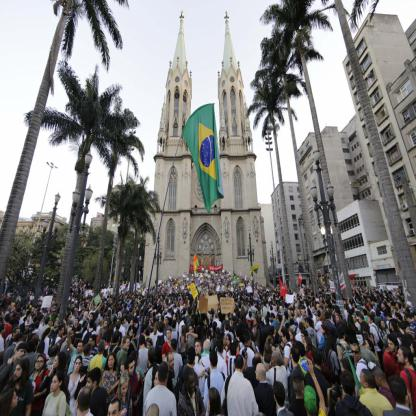face: (14, 366, 23, 381), (51, 376, 59, 392), (352, 347, 360, 362), (36, 356, 44, 371), (86, 377, 94, 391), (109, 405, 119, 416), (189, 375, 195, 393), (18, 349, 27, 361), (360, 372, 366, 389), (397, 350, 404, 364), (75, 358, 82, 372), (154, 372, 160, 388), (130, 361, 136, 377), (388, 339, 395, 352), (53, 356, 60, 369), (122, 383, 129, 396), (169, 355, 175, 369), (256, 366, 261, 381), (109, 356, 115, 367), (77, 343, 83, 354), (272, 355, 278, 366), (196, 342, 201, 354), (365, 340, 370, 351), (135, 354, 140, 365), (16, 329, 21, 339), (289, 332, 294, 341), (167, 331, 172, 340), (411, 344, 415, 354), (127, 340, 131, 349), (89, 338, 93, 347), (406, 327, 411, 334), (342, 362, 345, 373), (359, 317, 363, 325), (302, 335, 306, 343), (148, 343, 152, 351), (62, 327, 66, 335), (55, 321, 59, 329), (282, 333, 285, 343), (336, 316, 340, 323), (382, 321, 386, 328), (90, 314, 94, 321), (227, 337, 230, 346), (131, 329, 134, 338), (368, 316, 371, 324), (406, 318, 410, 324), (254, 318, 257, 326), (190, 326, 193, 334), (71, 331, 74, 339), (4, 326, 7, 334), (354, 315, 357, 322), (390, 322, 393, 329), (173, 314, 176, 321), (27, 317, 31, 322), (303, 310, 306, 316), (391, 306, 394, 312), (321, 328, 324, 334), (407, 303, 410, 309), (387, 317, 390, 323), (395, 315, 398, 321), (211, 316, 214, 322), (159, 317, 162, 323), (131, 320, 134, 326), (230, 321, 233, 327), (76, 319, 79, 325), (105, 321, 108, 327), (306, 321, 309, 327), (288, 326, 291, 332), (274, 327, 277, 333), (88, 323, 90, 331), (320, 308, 323, 313), (295, 311, 298, 316), (298, 311, 301, 316), (397, 304, 400, 309), (369, 298, 372, 303), (82, 311, 85, 316), (23, 311, 26, 316), (225, 316, 228, 321), (230, 314, 233, 319), (71, 312, 73, 319), (151, 312, 153, 319), (166, 319, 168, 325), (181, 328, 183, 334), (150, 321, 152, 327), (205, 320, 207, 326), (76, 312, 78, 318), (43, 316, 45, 322), (290, 312, 292, 317), (314, 308, 316, 313), (317, 316, 319, 321), (33, 308, 35, 313), (49, 319, 51, 324), (327, 309, 329, 313), (389, 303, 391, 307), (14, 308, 16, 312), (165, 304, 167, 308)
